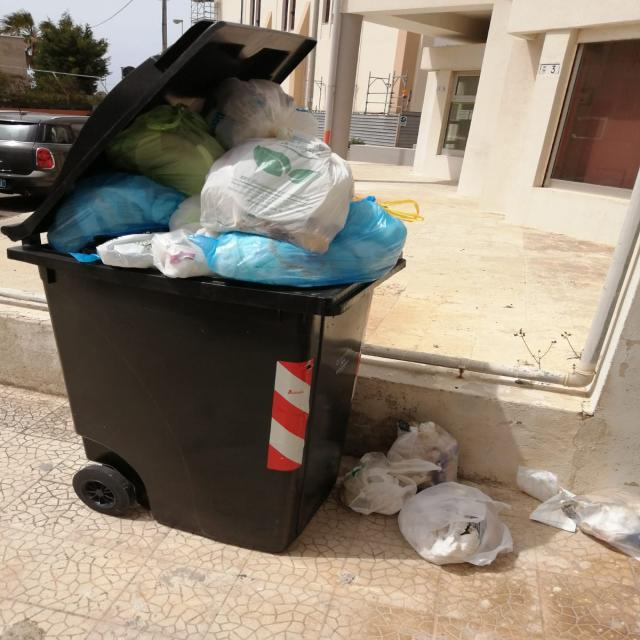garbage: (11, 18, 532, 560)
